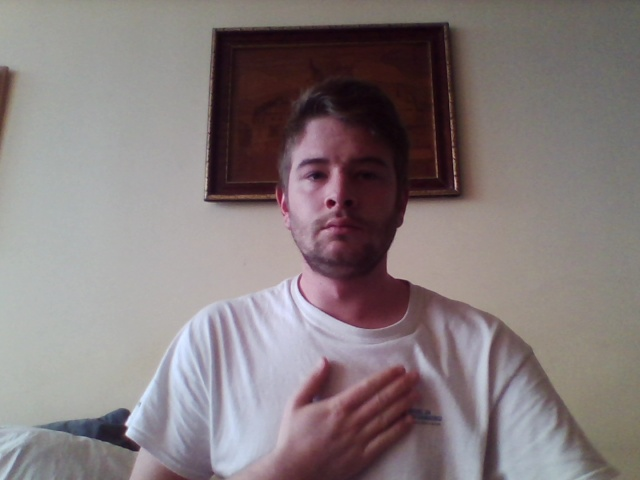molimte: (273, 354, 426, 480)
